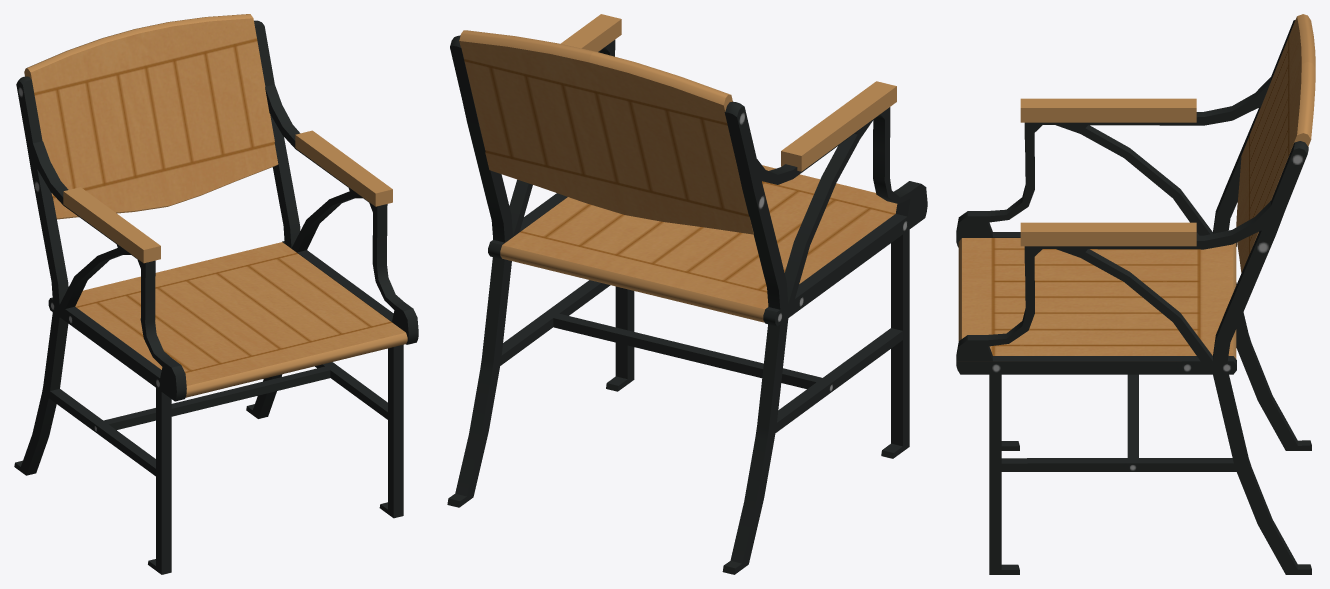
File: T_chair01.fbx
3 renders of one model, left to right at view 1: azimuth 30°, elevation 25°; view 2: azimuth 150°, elevation 25°; view 3: azimuth 270°, elevation 25°, orthographic. The views are drawn at different scales.
Parts seen in each view (by area): view 1: chair01; view 2: chair01; view 3: chair01.
Boxes of the visible parts, left/top/right/bottom form: chair01: left=14, top=14, right=418, bottom=574; chair01: left=447, top=14, right=927, bottom=574; chair01: left=956, top=14, right=1315, bottom=574.
Bounding box in the file's own units: 0.3594 × 0.5647 × 0.4104.
Materials: 1 (1 with a texture image).
